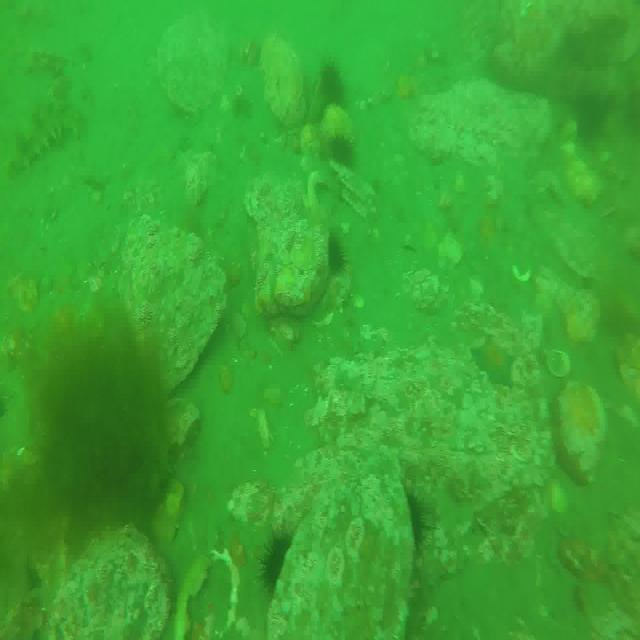echinus: (400, 484, 433, 555), (573, 85, 611, 143), (267, 529, 304, 584), (323, 233, 352, 284), (328, 132, 358, 176), (320, 65, 348, 106)
holothurian: (9, 107, 80, 173)
